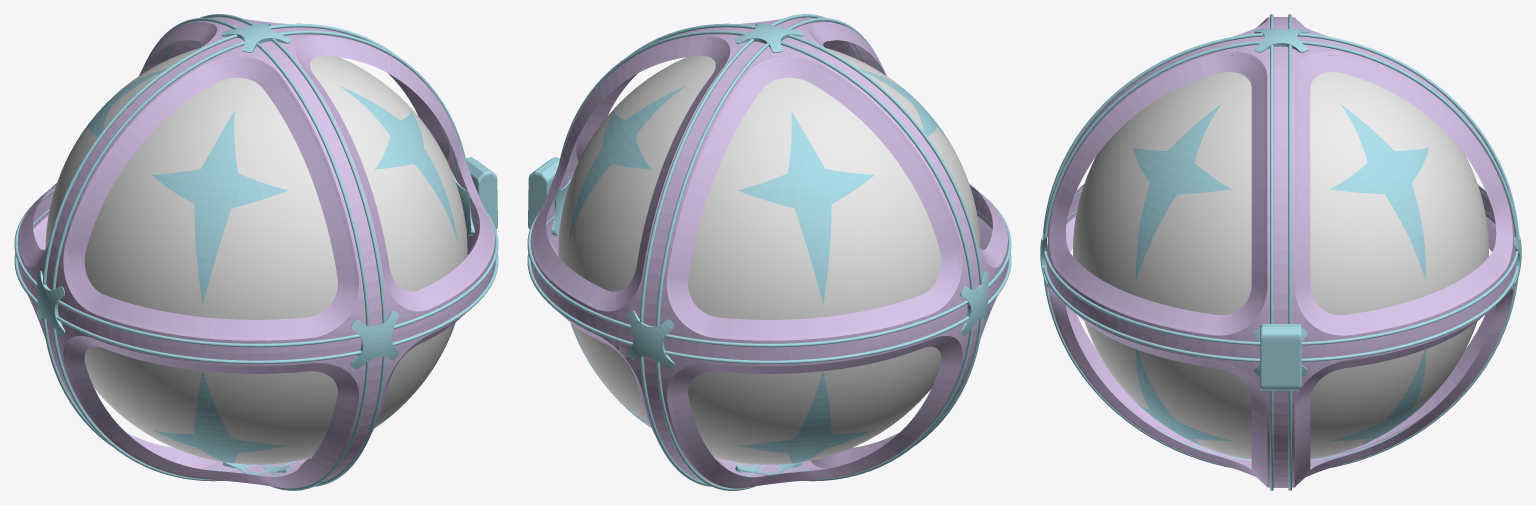
The model's file is jizhan.fbx.
3 renders of one model, left to right at view 1: azimuth 30°, elevation 25°; view 2: azimuth 150°, elevation 25°; view 3: azimuth 270°, elevation 25°, orthographic.
Parts seen in each view (by area): view 1: 球体.001, ring, road, star, connection, launch; view 2: 球体.001, ring, road, star, connection, launch; view 3: 球体.001, ring, road, star, launch, connection.
Part boxes in pixels (<box>): 球体.001: <box>45,48,467,464</box>; ring: <box>17,17,494,488</box>; road: <box>14,14,498,490</box>; star: <box>70,69,457,463</box>; connection: <box>36,22,474,475</box>; launch: <box>466,157,497,229</box>; 球体.001: <box>558,47,980,464</box>; ring: <box>530,17,1008,488</box>; road: <box>527,14,1011,490</box>; star: <box>568,69,955,463</box>; connection: <box>551,23,988,475</box>; launch: <box>528,157,559,229</box>; 球体.001: <box>1072,72,1489,459</box>; ring: <box>1046,17,1515,487</box>; road: <box>1043,14,1518,490</box>; star: <box>1133,103,1428,446</box>; launch: <box>1260,324,1301,390</box>; connection: <box>1040,28,1521,376</box>.
Bounding box in the file's own units: 252 × 241 × 240.
